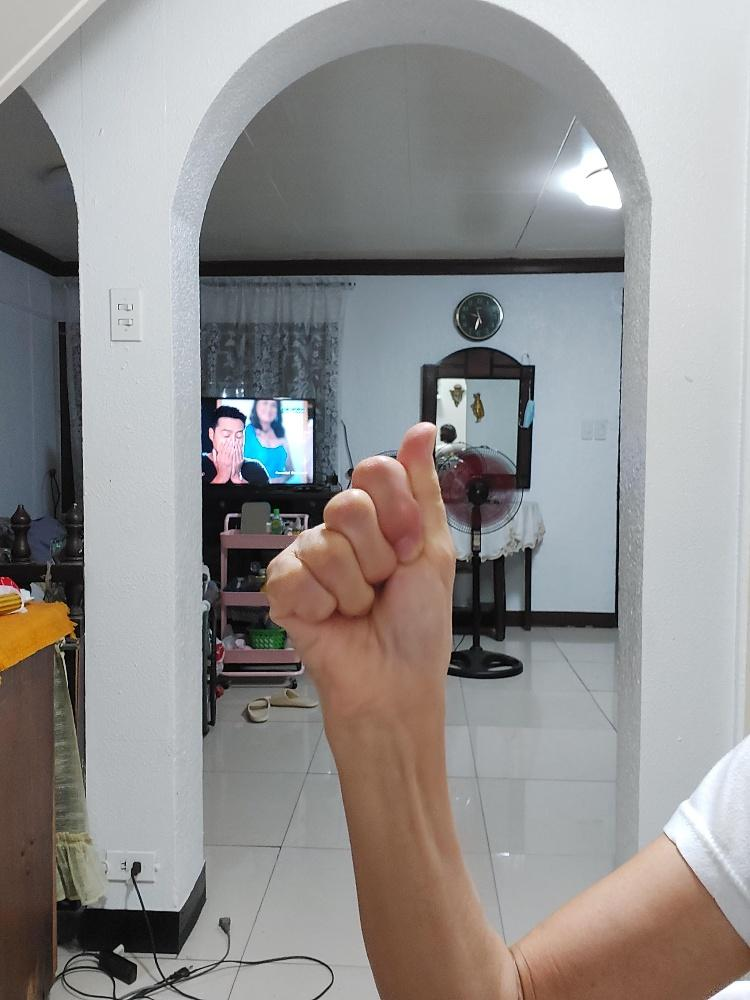a: (261, 420, 455, 726)
